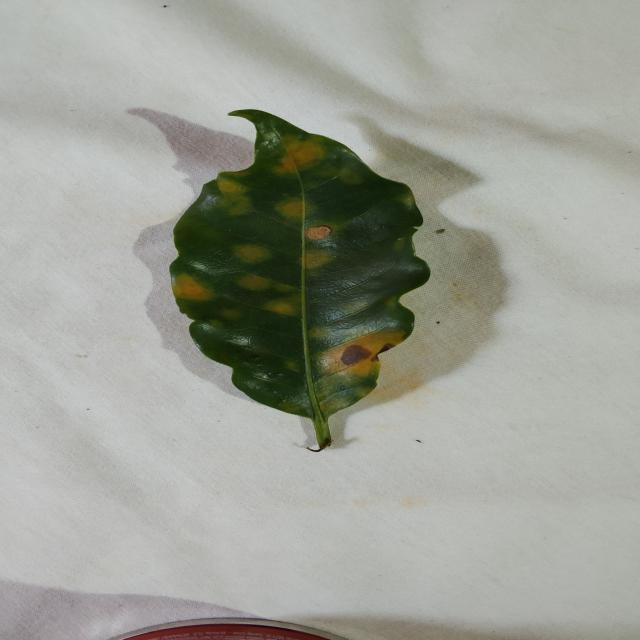Enfermedad-Roya: (168, 109, 431, 453)
